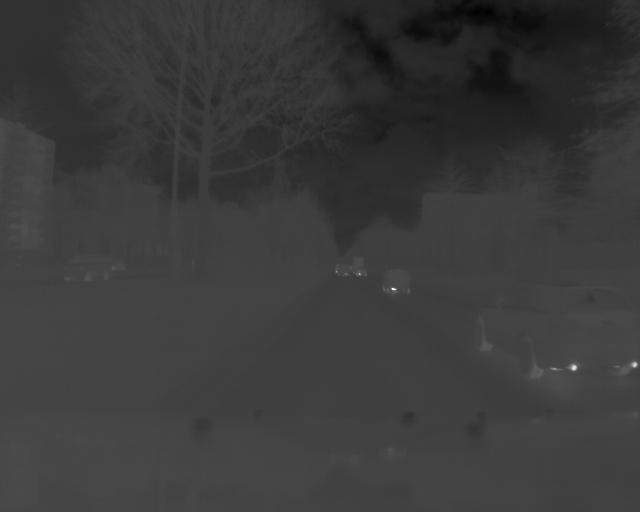car: (476, 280, 640, 385), (379, 267, 415, 295)
